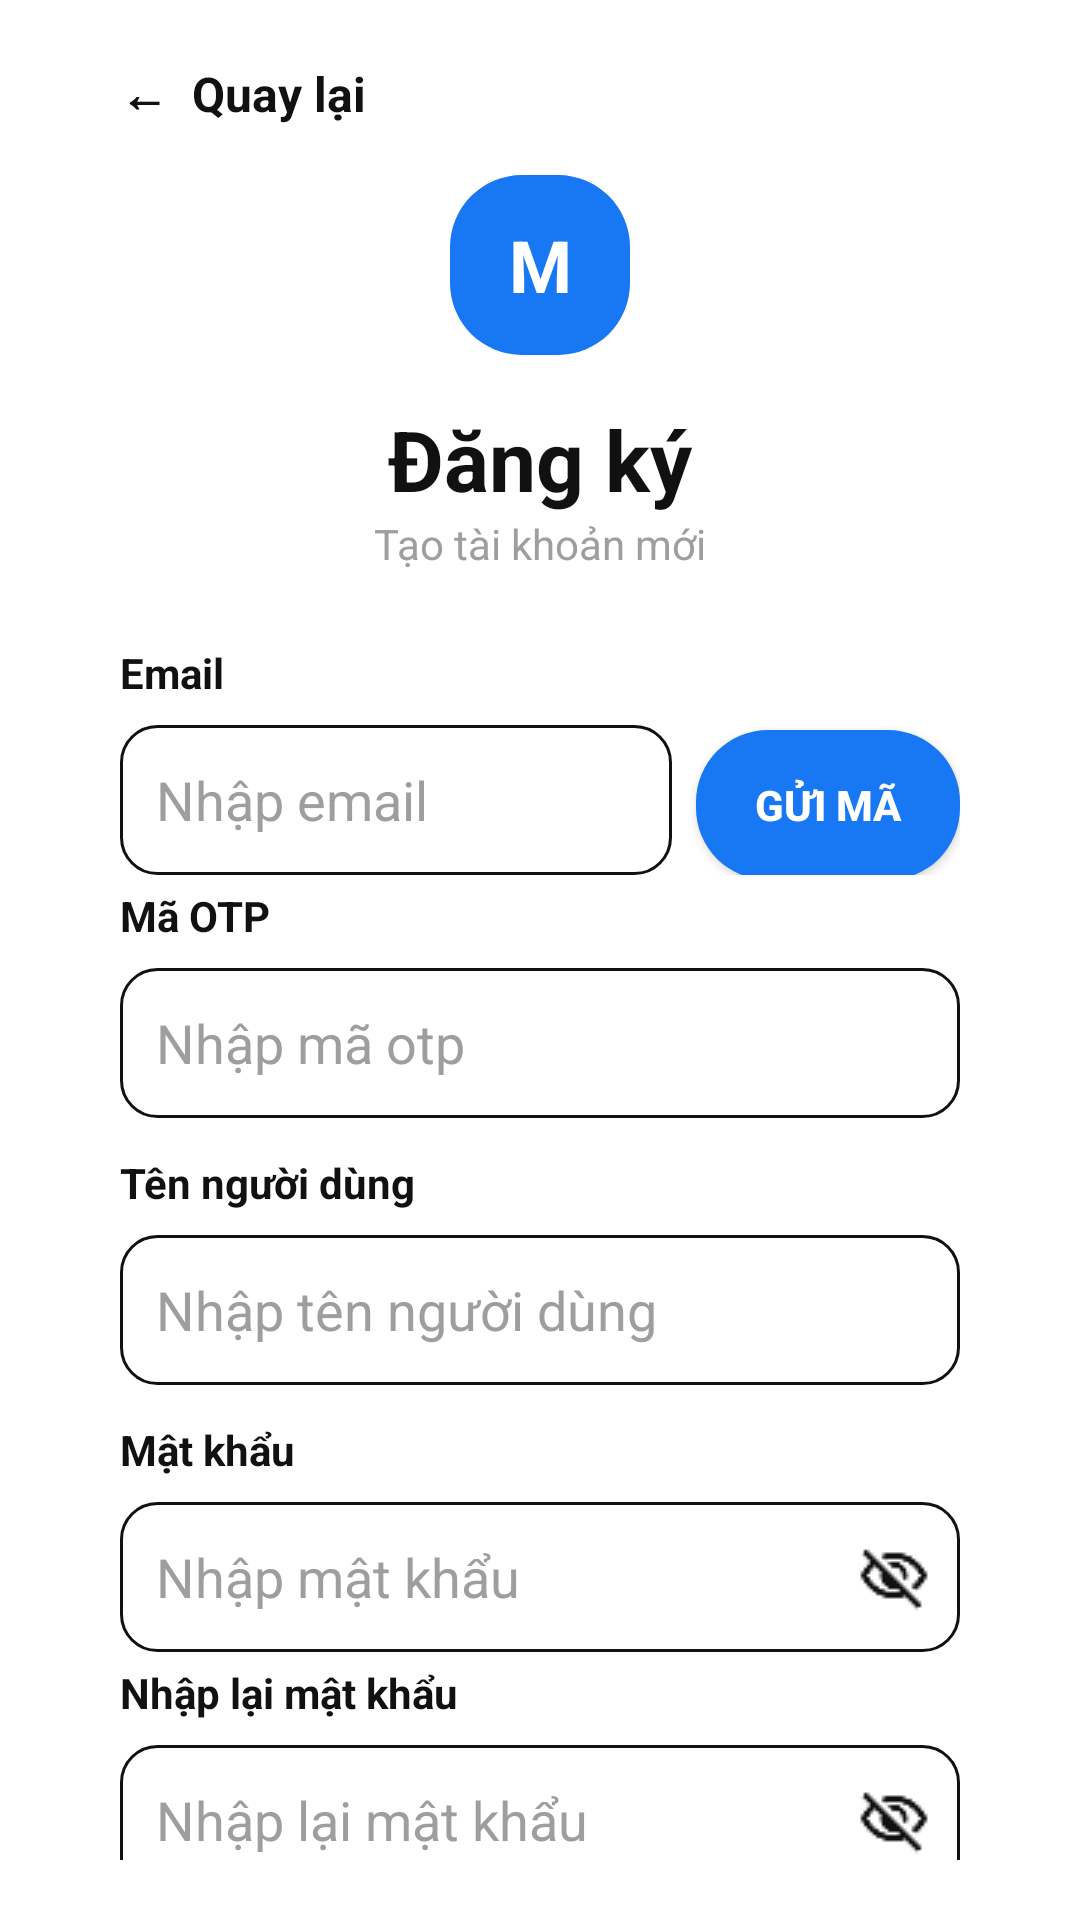

Icons on this 1080 × 1920 Android screen, each with the point to tap as (x=x, y=y):
Ẩn/Hiện mật khẩu: (x=894, y=1579), (x=894, y=1822)
